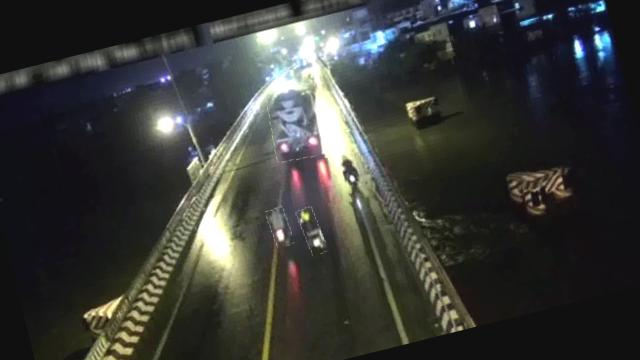Bike: (297, 206, 327, 257), (266, 206, 294, 248), (335, 150, 362, 190)
Truck: (262, 81, 329, 164)
